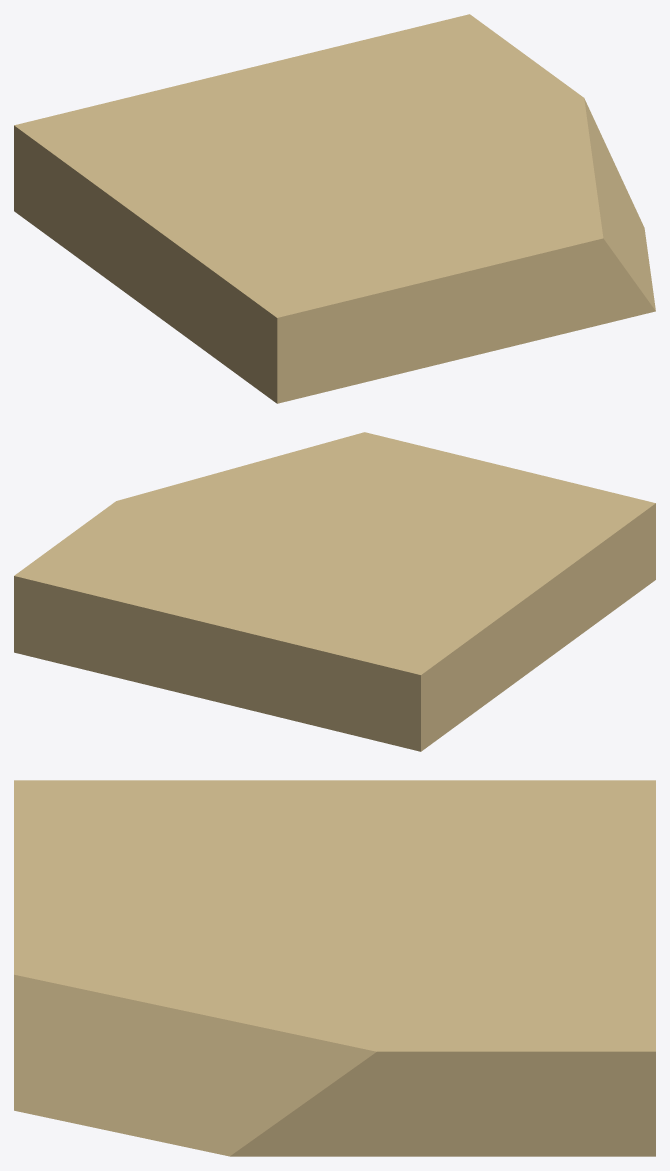
File: Rock_Flat_s_02.fbx
3 renders of one model, top to bottom at view 1: azimuth 30°, elevation 25°; view 2: azimuth 150°, elevation 25°; view 3: azimuth 270°, elevation 25°, orthographic. The views are drawn at different scales.
Visible parts, largest first — view 1: Rock_Flat_s_02; view 2: Rock_Flat_s_02; view 3: Rock_Flat_s_02.
Part boxes in pixels (bbox=[...]): Rock_Flat_s_02: bbox=[14, 14, 655, 403]; Rock_Flat_s_02: bbox=[14, 432, 655, 751]; Rock_Flat_s_02: bbox=[14, 780, 655, 1156].
Size of the model in its own units: 50.4 by 9.07 by 50.4.
